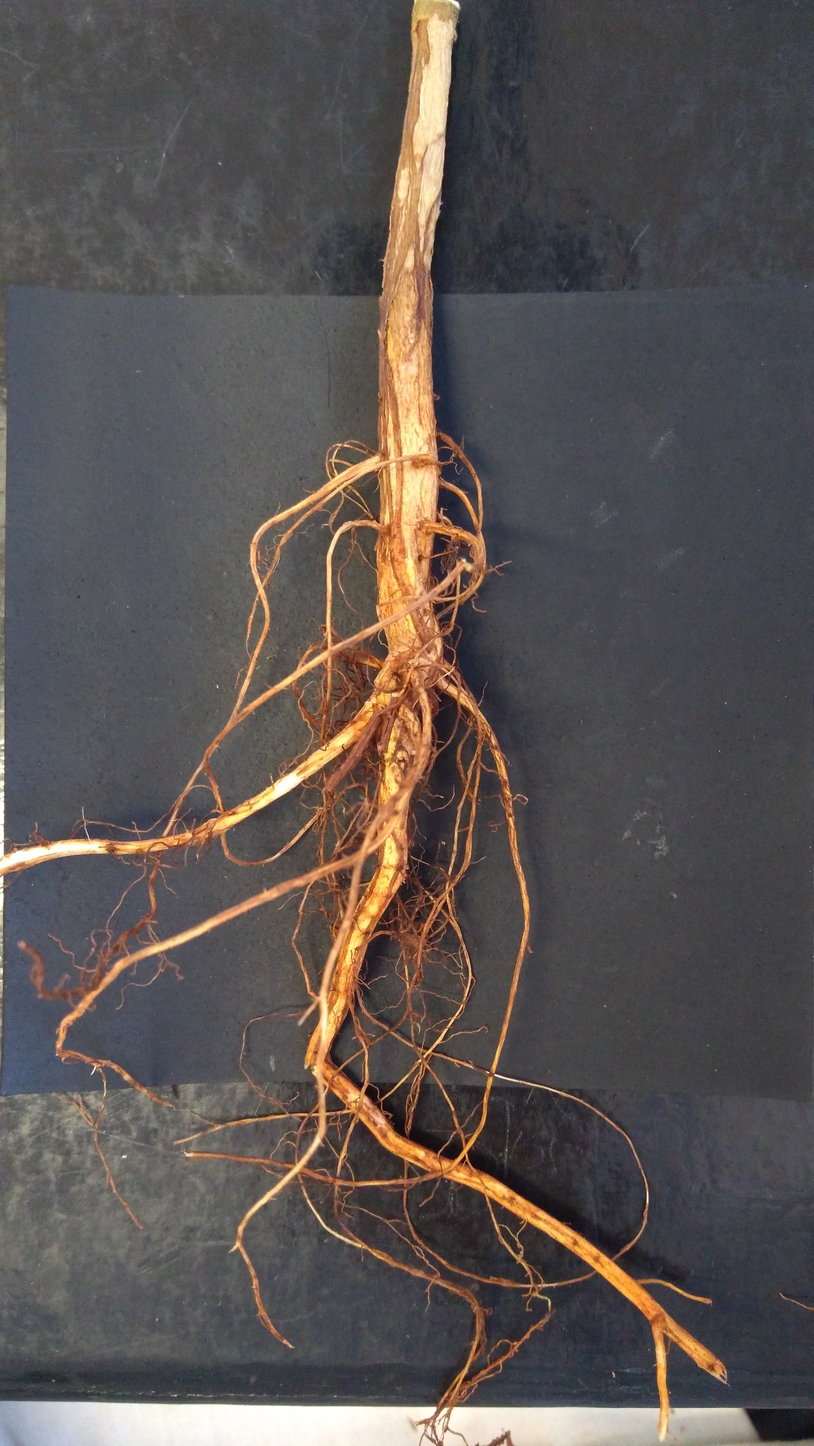nodule: (439, 540, 460, 573), (373, 668, 399, 692), (424, 687, 439, 721), (396, 667, 414, 687)
